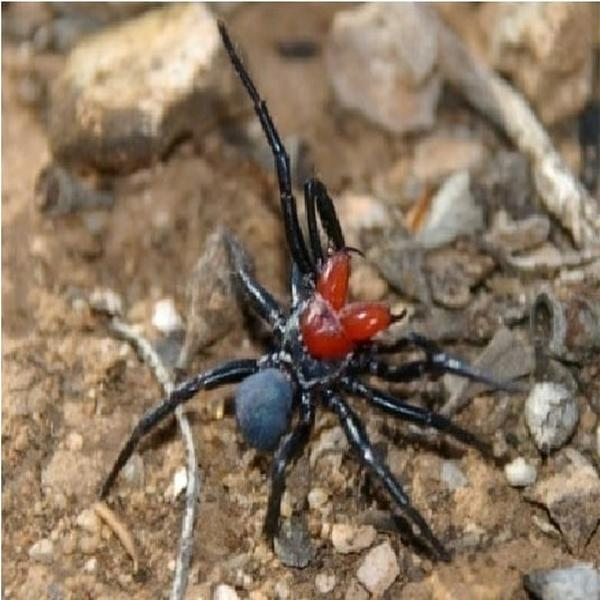Red Headed Mouse Spider: (110, 111, 480, 565)
